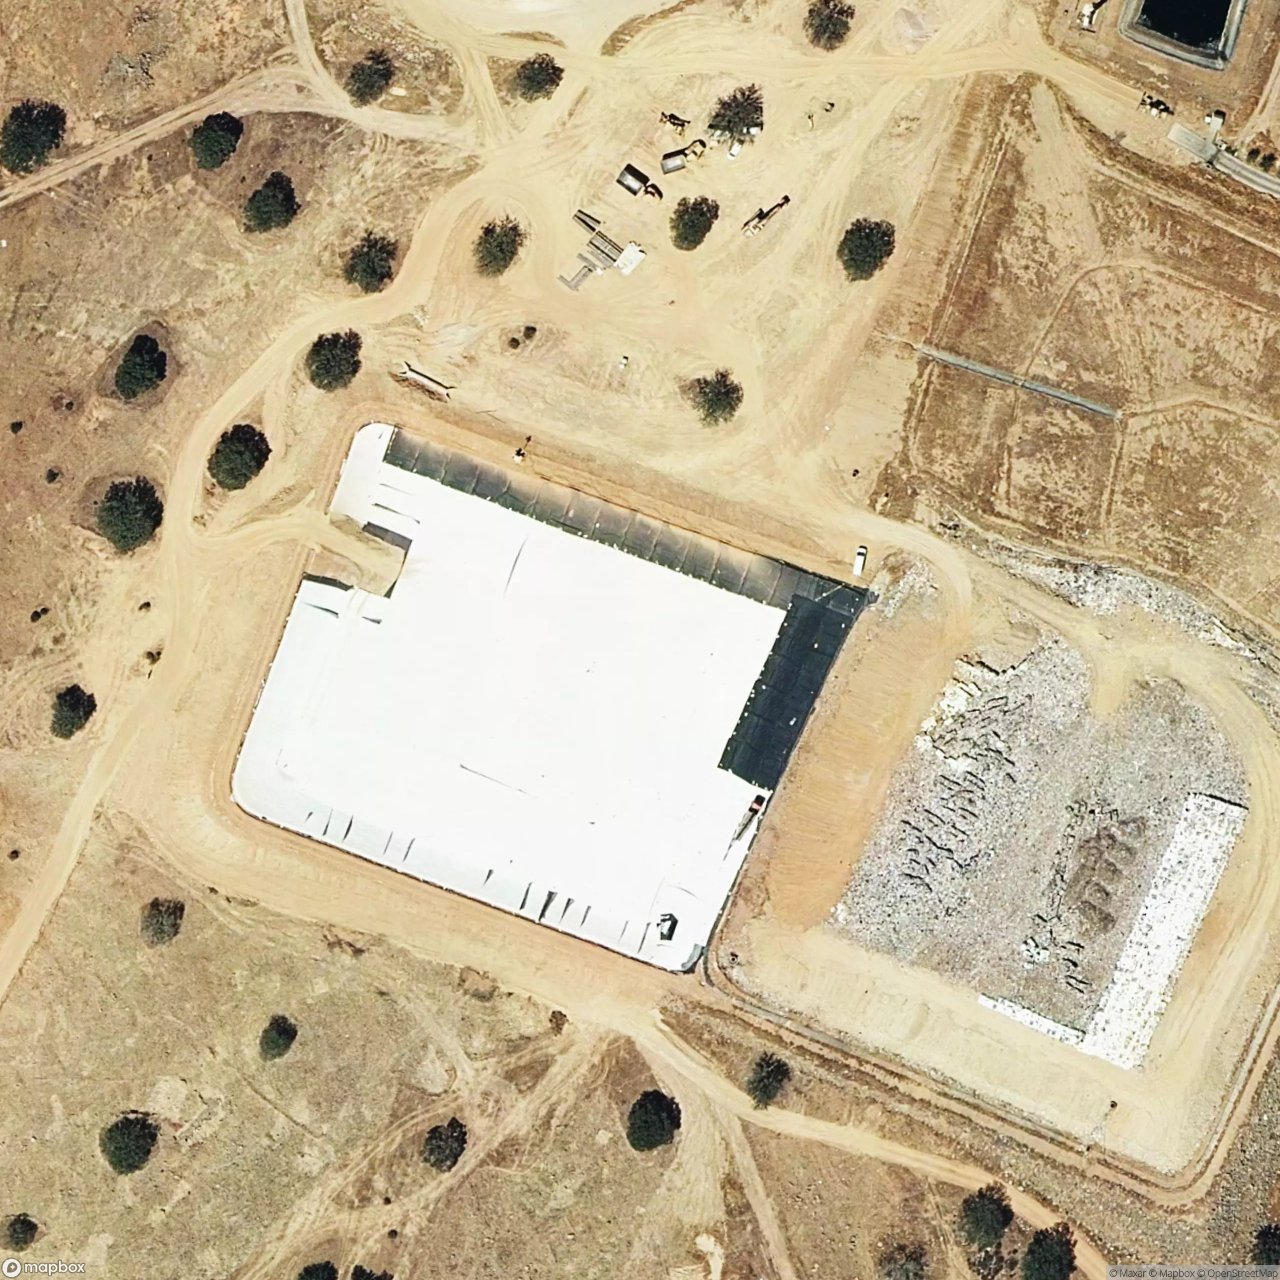dump_site: (814, 623, 1269, 1032)
